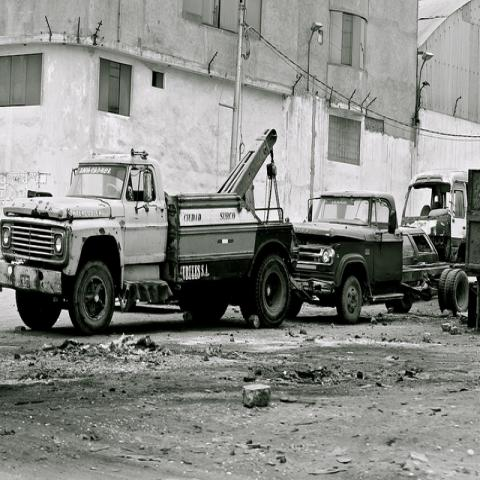car: (2, 125, 295, 330), (402, 172, 468, 262)
truck: (3, 125, 294, 326), (283, 190, 469, 326), (400, 165, 479, 277)
